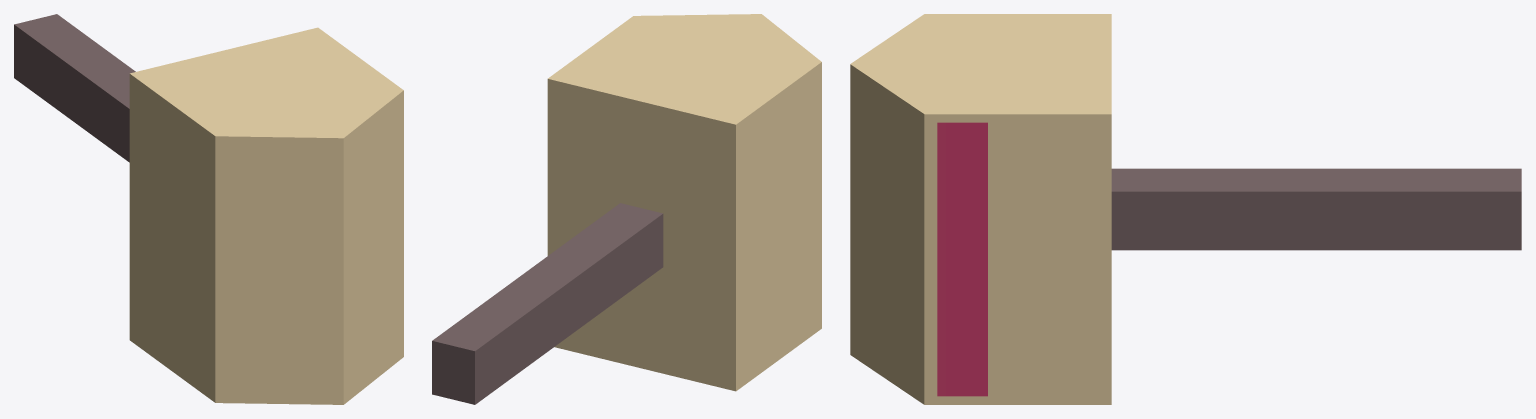
File: 017_mailbox.gltf
3 views of the same model, side by side, from view 1: azimuth 30°, elevation 25°; view 2: azimuth 150°, elevation 25°; view 3: azimuth 270°, elevation 25° (orthographic). The views are drawn at different scales.
Parts seen in each view (by area): view 1: mailbox; view 2: mailbox; view 3: mailbox.
Part boxes in pixels (left/top/right/bottom): mailbox: left=14, top=14, right=403, bottom=404; mailbox: left=432, top=14, right=821, bottom=404; mailbox: left=850, top=14, right=1521, bottom=404.
Size of the model in its own units: 1.07 by 1.45 by 3.04.
Materials: 1 (1 with a texture image).
